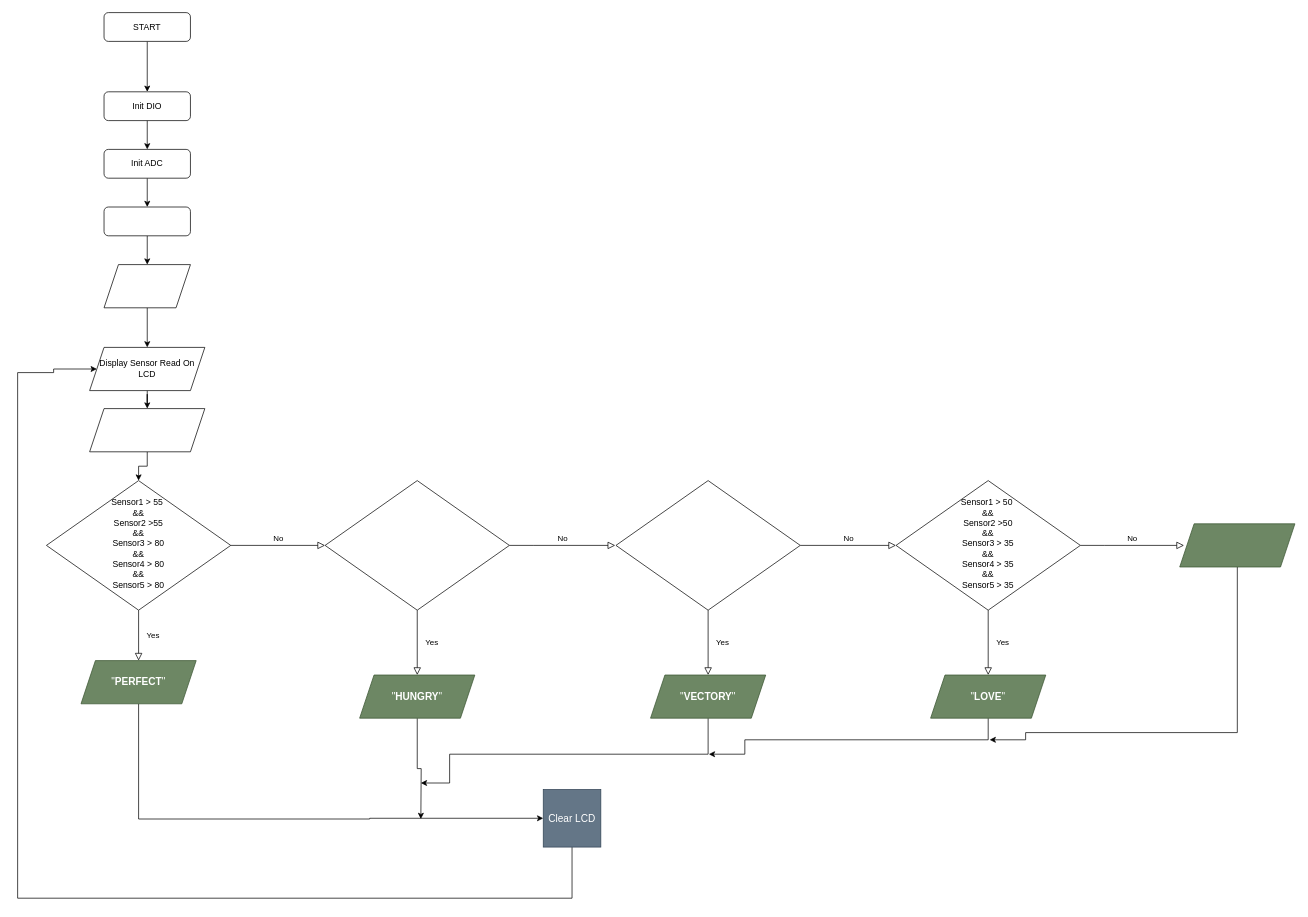
The diagram is 1308 pixels wide and 917 high, and some of its shapes have lost their labels. The shapes that lost their labels are listed below. From the top down, each one's box as (x1, y1, x2, y2) in pixels, then its label:
(103, 206, 190, 236): Init LCD
(103, 264, 190, 308): Set ADC Pins As Input
(89, 408, 205, 452): Golves StartWork
(324, 480, 509, 610): Sensor1 > 80 && Sensor2 >80 && Sensor3 > 80 && Sensor4 > 35 && Sensor5 > 35
(615, 480, 800, 610): Sensor1 > 35 && Sensor2 >80 && Sensor3 > 80 && Sensor4 > 35 && Sensor5 > 35
(1179, 523, 1295, 567): " IDLE "
